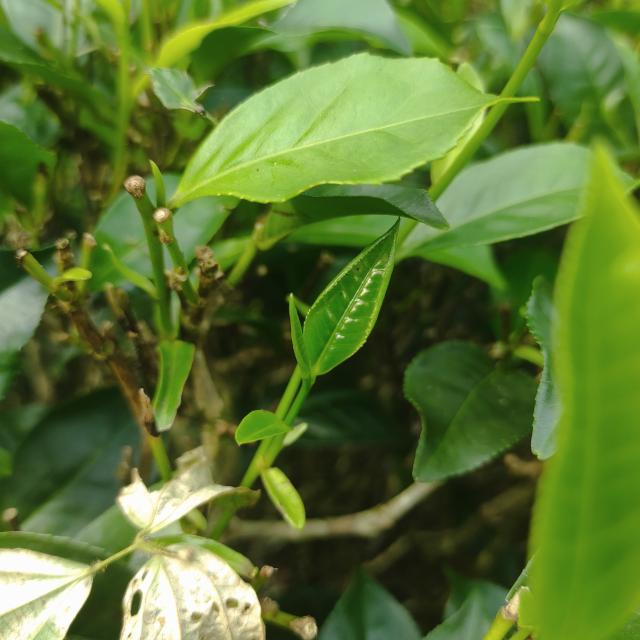unopened_leaf: (285, 286, 316, 387), (143, 154, 177, 220)
